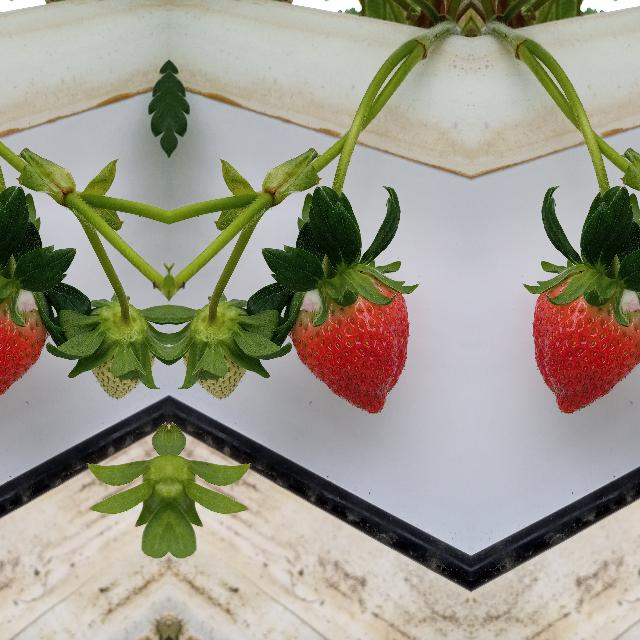Health_100: (290, 273, 410, 413), (531, 273, 640, 413), (0, 273, 46, 413)
Health_25: (179, 289, 253, 409), (83, 289, 157, 409)
